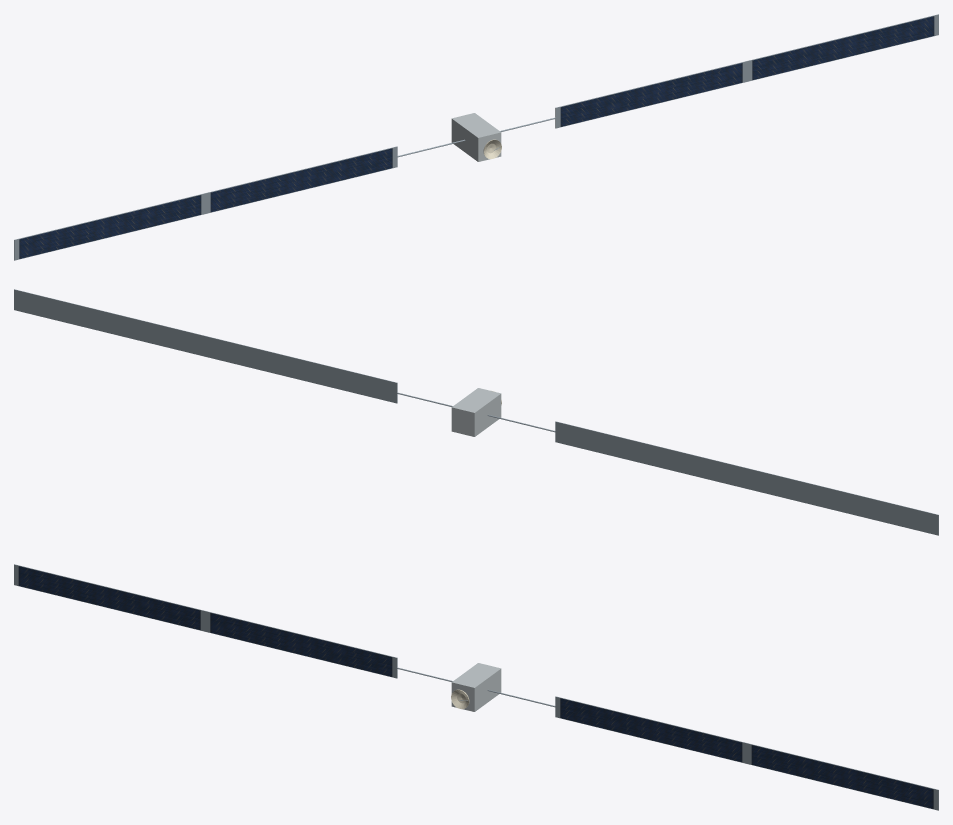
The model's file is ref-trumpet-23609.glb.
The picture shows the model from 3 angles, top to bottom: view 1: azimuth 30°, elevation 25°; view 2: azimuth 150°, elevation 25°; view 3: azimuth 330°, elevation 25°; orthographic projection.
Visible parts, largest first — view 1: Photovoltaic laminates (×4), Array frame (×4), Spacecraft body; view 2: Array frame (×4), Spacecraft body; view 3: Photovoltaic laminates (×4), Array frame (×4), Spacecraft body.
Boxes of the visible parts, x1,y1,x2,y2 form: Photovoltaic laminates (×4): (19,16,934,258); Array frame (×4): (14,14,938,260); Spacecraft body: (451,113,501,161); Array frame (×4): (14,289,938,535); Spacecraft body: (451,388,501,436); Photovoltaic laminates (×4): (18,566,933,808); Array frame (×4): (14,564,938,810); Spacecraft body: (451,663,501,711).
Size of the model in its own units: 100 by 2.5 by 5.85.
Materials: 4 (1 with a texture image).
